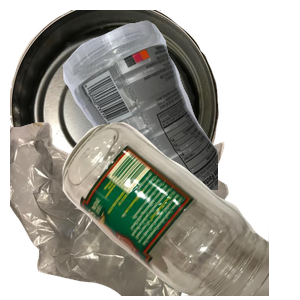glass: (60, 120, 300, 300)
metal: (10, 10, 221, 190)
plastic: (60, 18, 300, 198)
trash: (10, 120, 231, 300)
